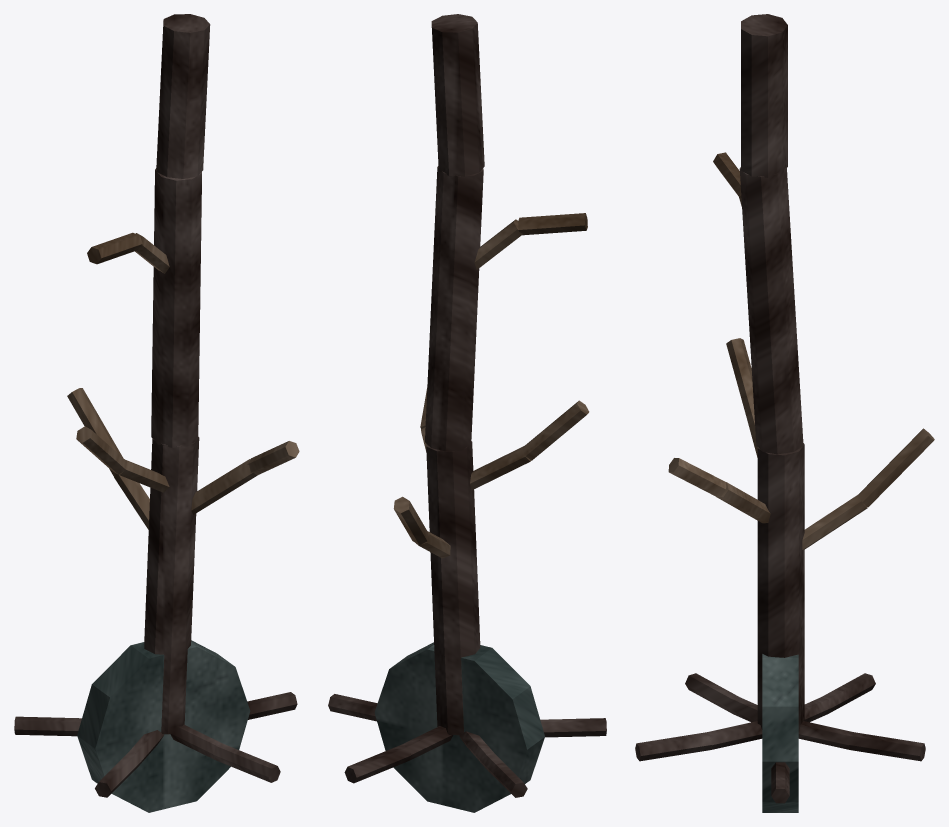
Rendered from 0136_dead_tree_11.glb.
3 views of the same model, side by side, from view 1: azimuth 30°, elevation 25°; view 2: azimuth 150°, elevation 25°; view 3: azimuth 270°, elevation 25° (orthographic).
Parts seen in each view (by area): view 1: wood_dark, stone_dark, wood; view 2: wood_dark, stone_dark, wood; view 3: wood_dark, wood, stone_dark.
Part boxes in pixels (<box>): wood_dark: <box>14,14,297,797</box>; stone_dark: <box>77,640,250,812</box>; wood: <box>67,232,299,529</box>; wood_dark: <box>328,14,606,797</box>; stone_dark: <box>374,642,544,812</box>; wood: <box>393,213,589,558</box>; wood_dark: <box>635,14,925,803</box>; wood: <box>668,152,934,549</box>; stone_dark: <box>762,654,798,812</box>.
Size of the model in its own units: 1.66 by 5.2 by 1.8.
Materials: 3 (3 with a texture image).
